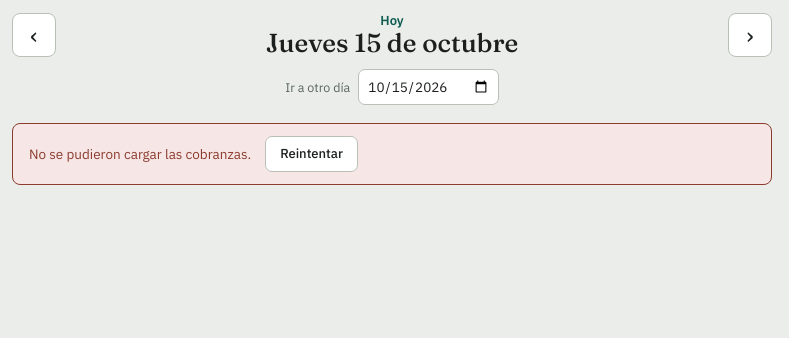
Test: CobranzaPage › lista › error de carga: mensaje y Reintentar, nunca cargando para siempre
Expected: the message shows "No se pudieron cargar las cobranzas.", [29,145,251,163]
Click the button "Reintentar": (312, 154) [265,136,358,172]
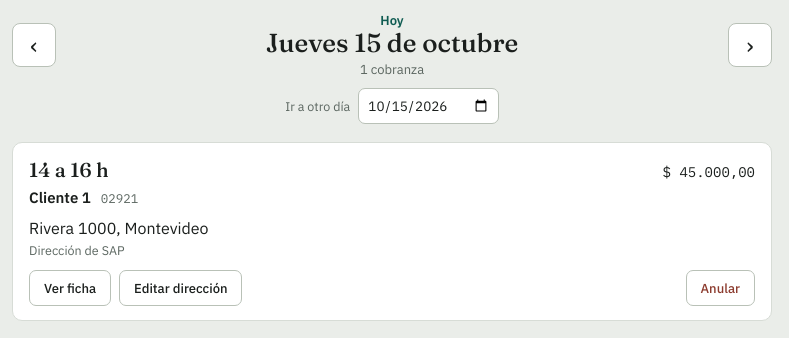
Now the element "Cliente 1" is shown, box [12,142,772,321]
Now the message "No se pudieron cargar las cobranzas. Reintentar" is gone
